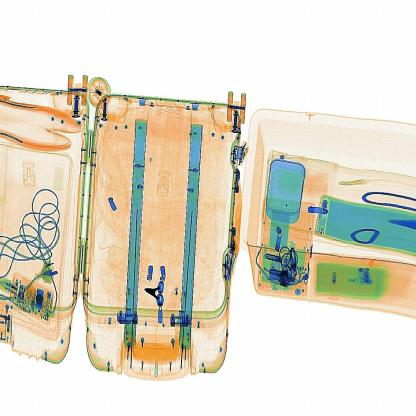gun: (137, 277, 177, 313)
